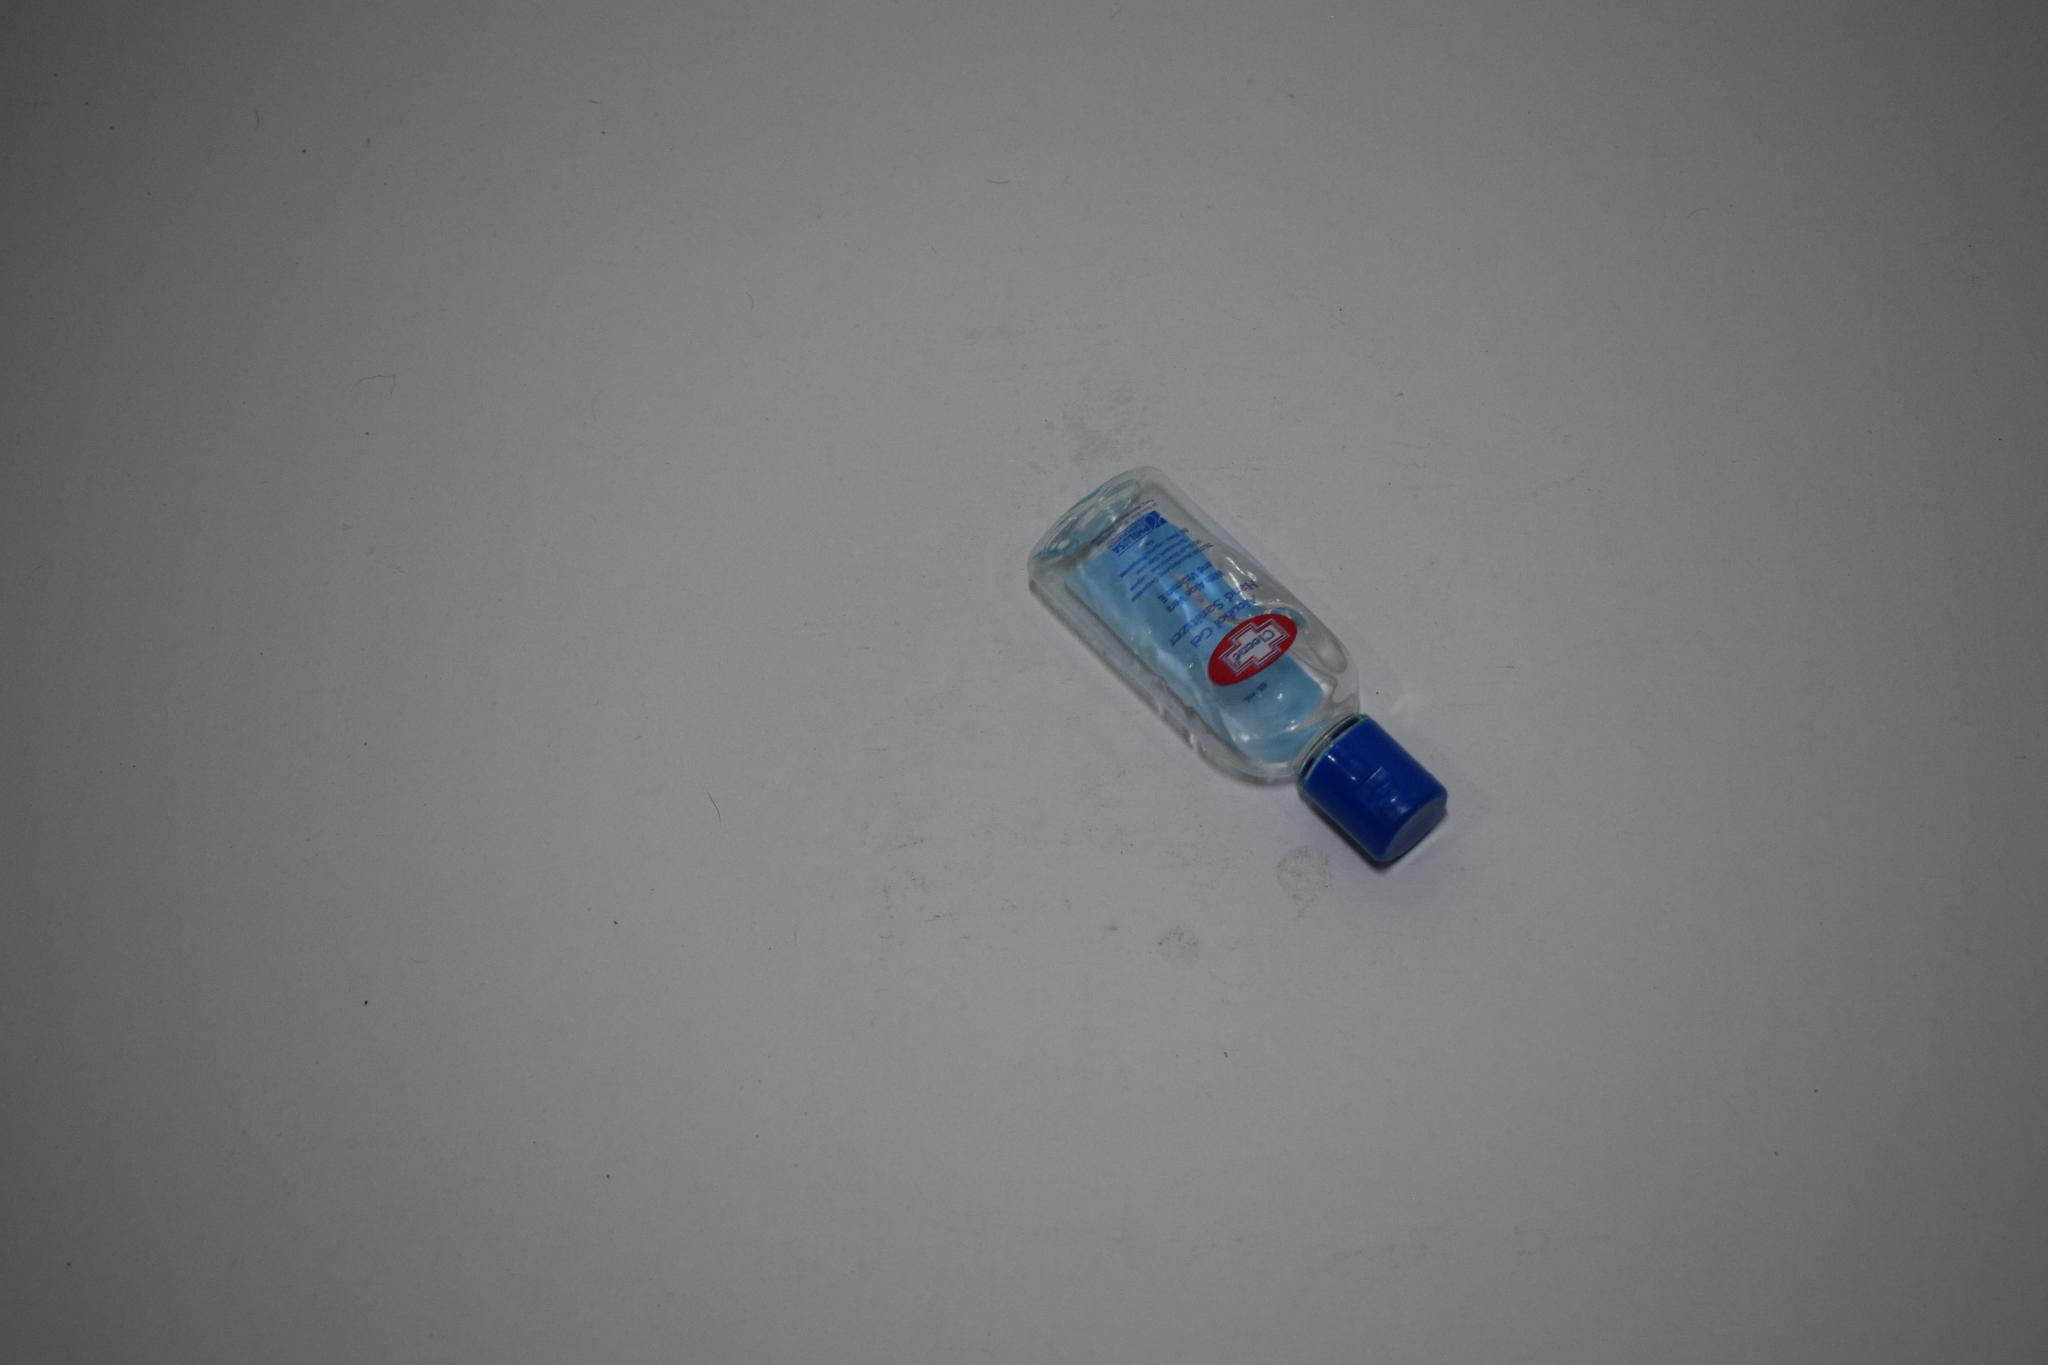bottle: (1018, 468, 1454, 877)
